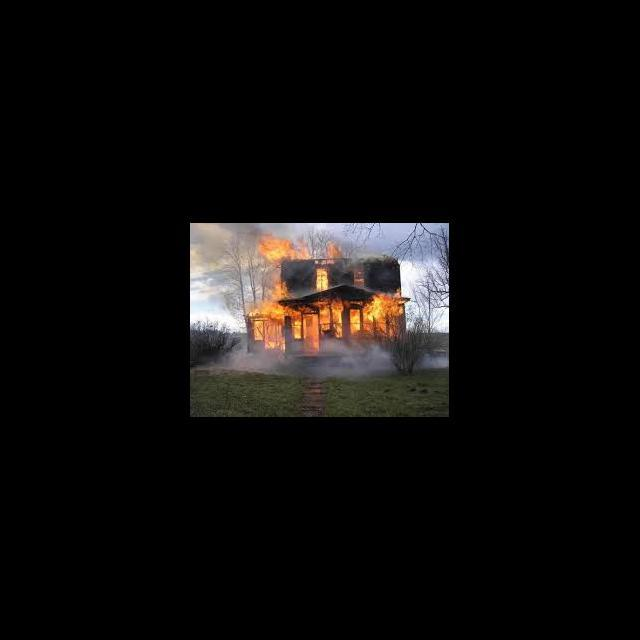Fire: (244, 279, 414, 354), (256, 234, 316, 265), (322, 238, 346, 265), (316, 268, 329, 291)
Smoke: (231, 348, 449, 381)
